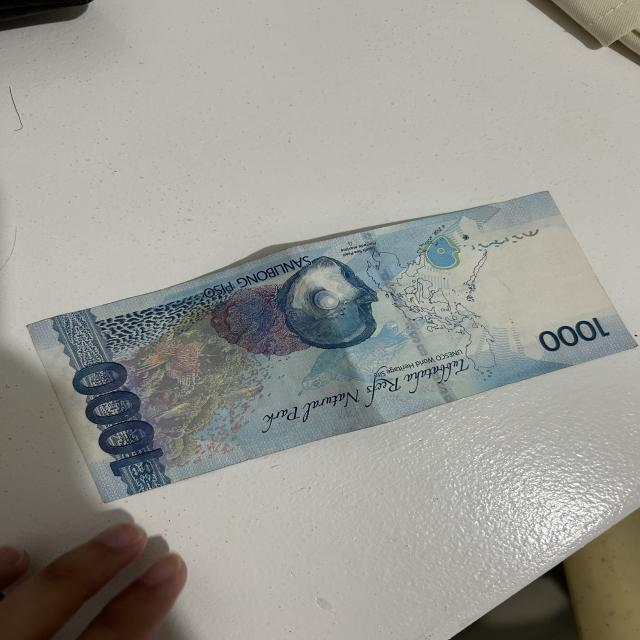1000_pearl: (278, 259, 382, 346)
1000_pearl_watermark: (421, 240, 469, 276)
